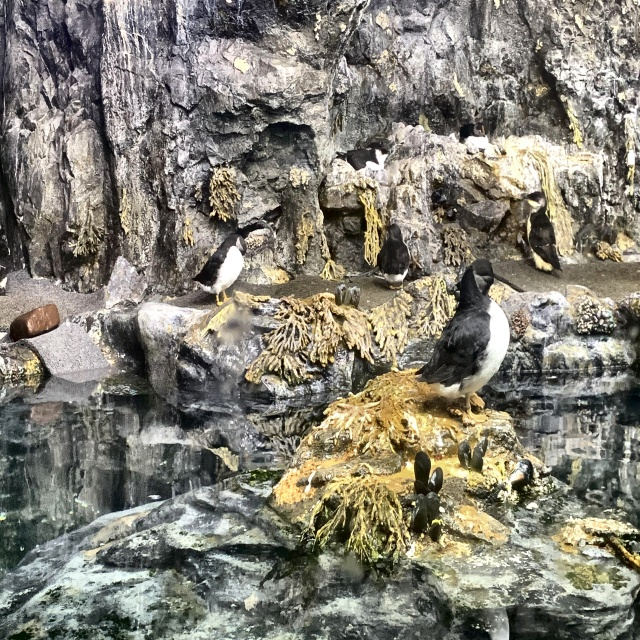puffin: (413, 257, 514, 425), (190, 232, 248, 308), (523, 190, 563, 274), (375, 222, 411, 291), (335, 141, 388, 173), (506, 453, 539, 498), (458, 122, 488, 149)
